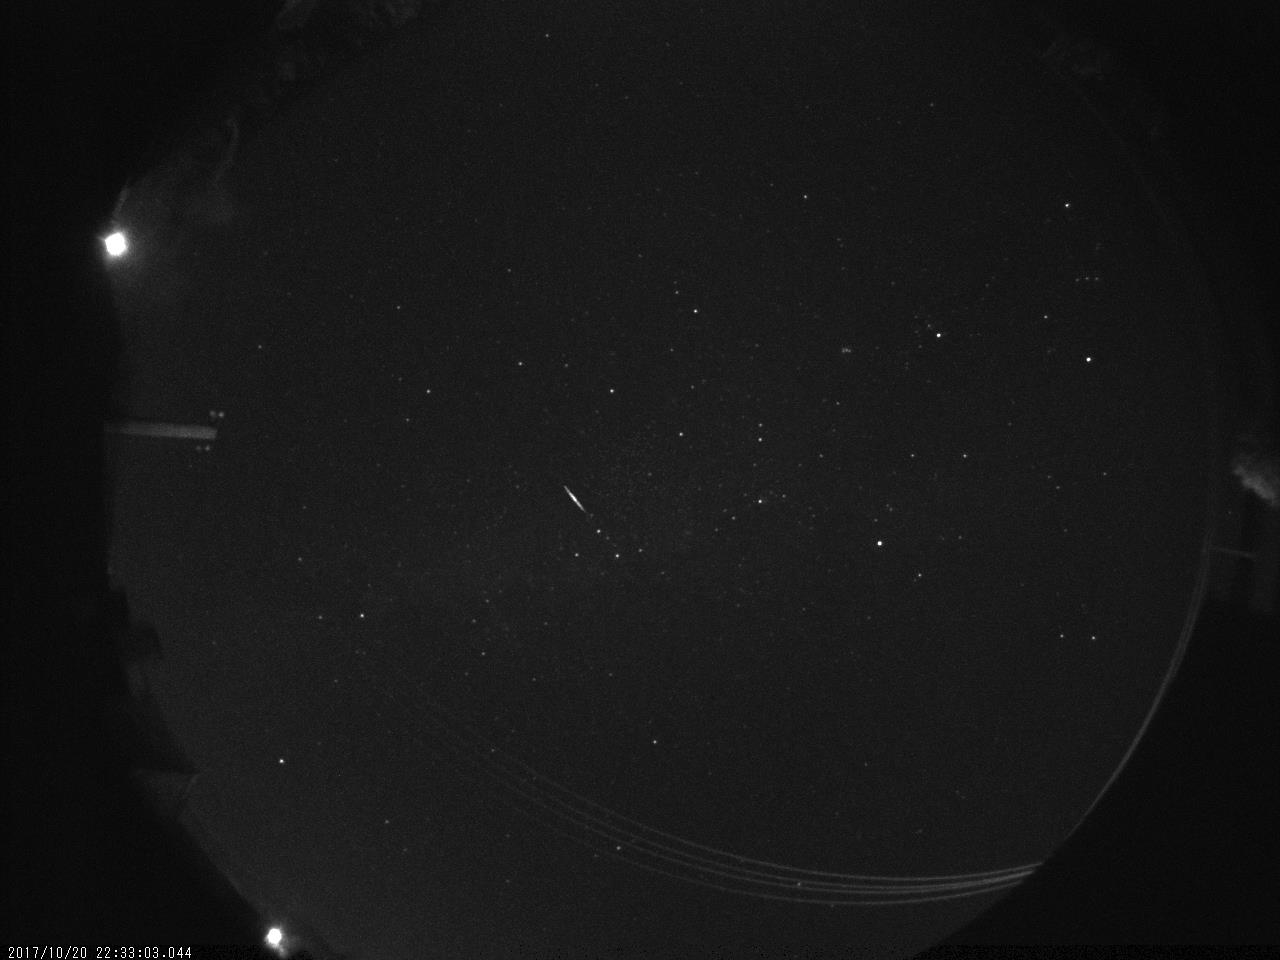meteor: (527, 459, 622, 542)
